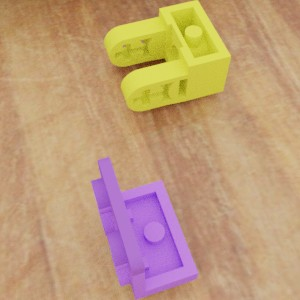lego: (90, 156, 198, 300), (104, 0, 231, 111)
